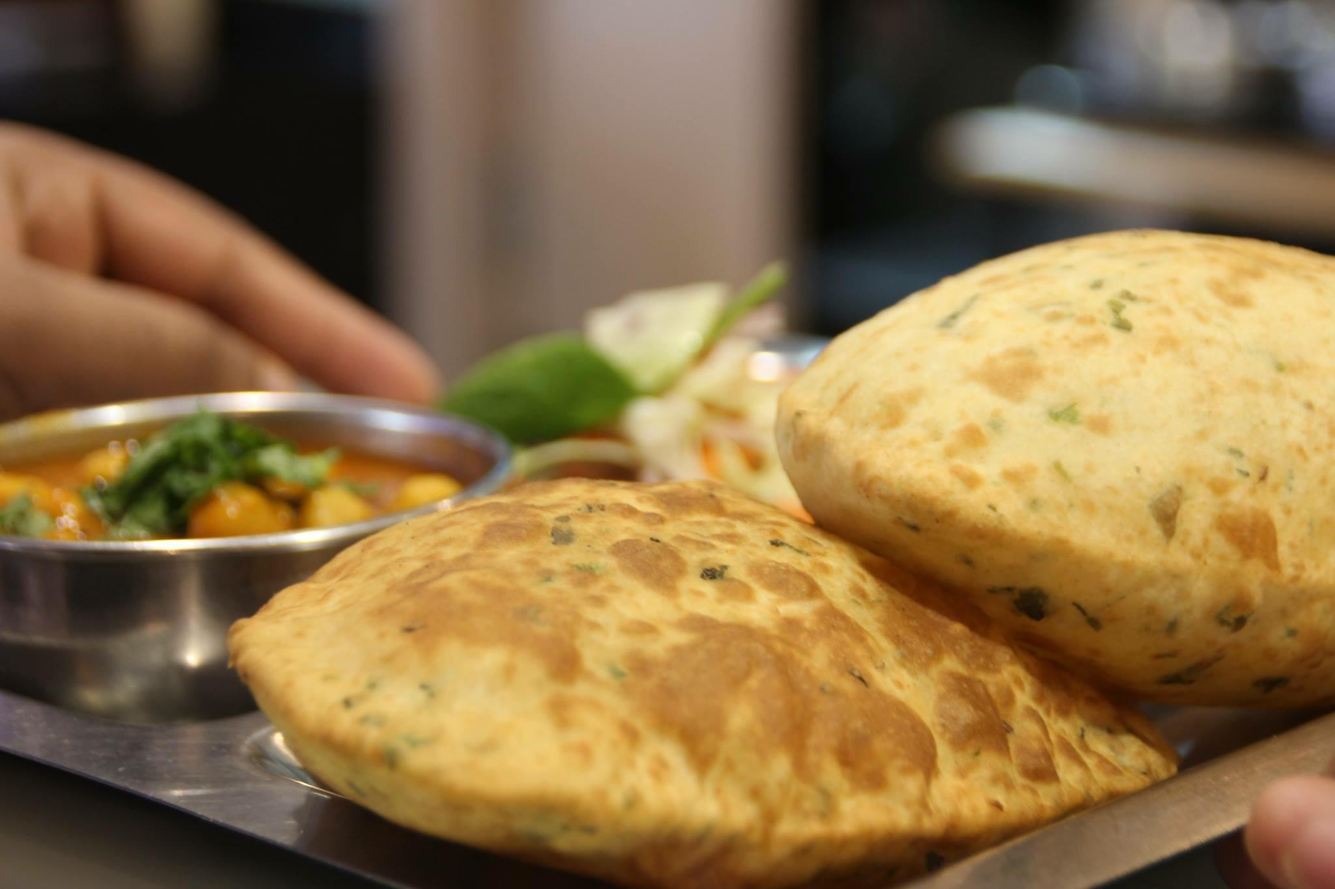Bhatura: (221, 474, 1181, 889), (775, 227, 1335, 702)
